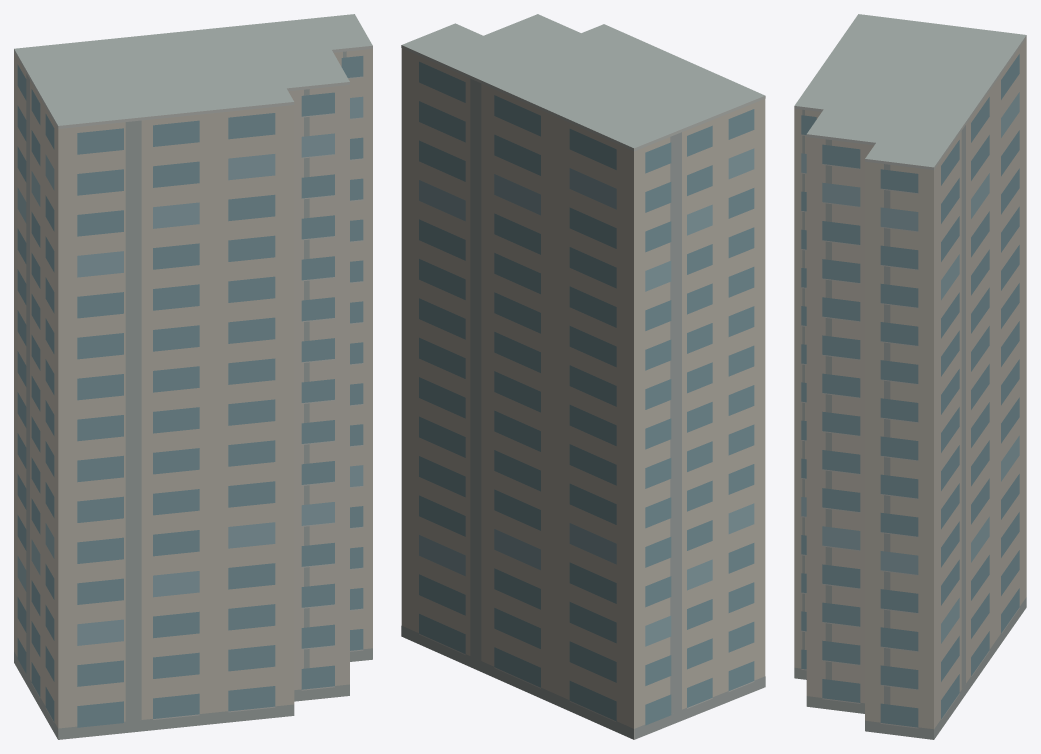
The model's file is residential-0c112e01-1f2c-46e5-b966-eeaa1d4ab87f.glb.
3 views of the same model, side by side, from view 1: azimuth 30°, elevation 25°; view 2: azimuth 150°, elevation 25°; view 3: azimuth 270°, elevation 25° (orthographic). The views are drawn at different scales.
Parts seen in each view (by area): view 1: residential-0c112e01-1f2c-46e5-b966-eeaa1d4ab87f.tmp; view 2: residential-0c112e01-1f2c-46e5-b966-eeaa1d4ab87f.tmp; view 3: residential-0c112e01-1f2c-46e5-b966-eeaa1d4ab87f.tmp.
Part boxes in pixels (bbox=[...]): residential-0c112e01-1f2c-46e5-b966-eeaa1d4ab87f.tmp: bbox=[14, 14, 372, 739]; residential-0c112e01-1f2c-46e5-b966-eeaa1d4ab87f.tmp: bbox=[401, 14, 765, 739]; residential-0c112e01-1f2c-46e5-b966-eeaa1d4ab87f.tmp: bbox=[794, 14, 1026, 739].
Size of the model in its own units: 28.17 by 49 by 18.02.
